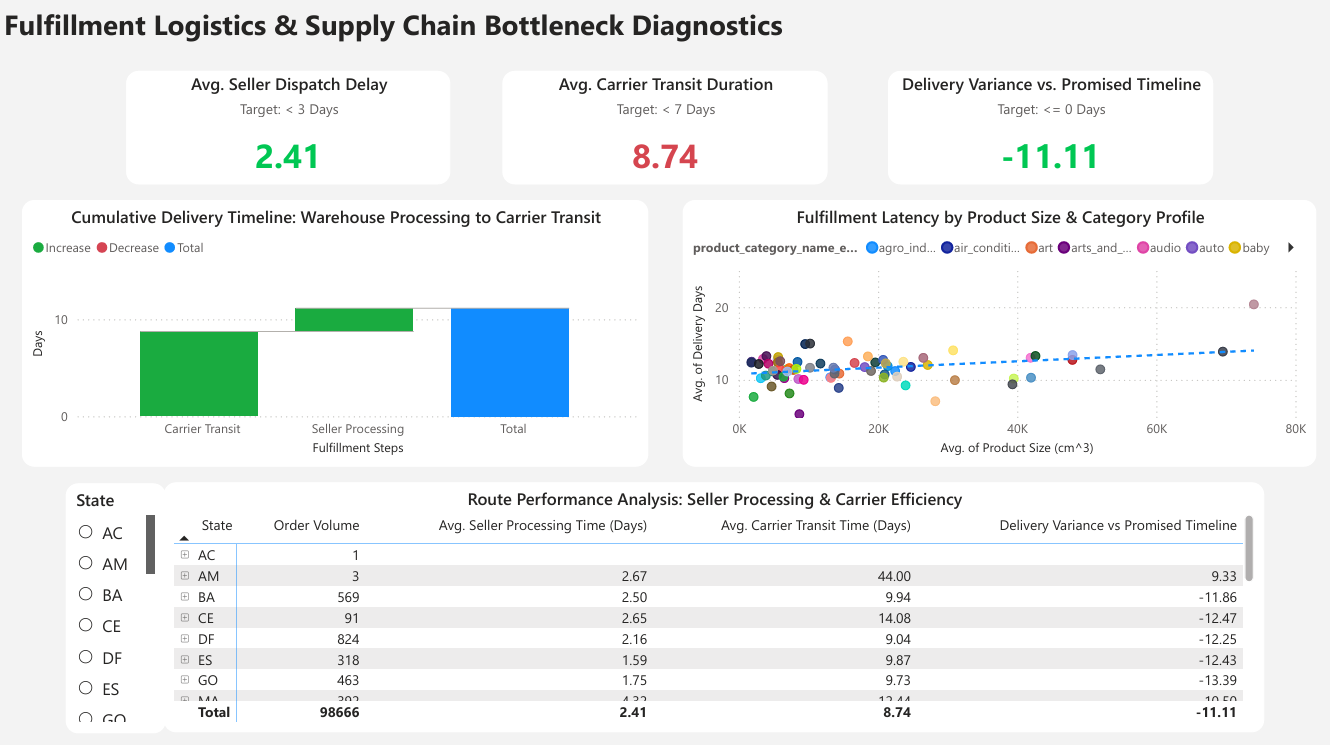

The dashboard page shown, as its layout file describes it:
{"tool":"powerbi","page":{"name":"Page 2 Logistics Bottleneck Analysis","canvas":[1280,720],"ordinal":1},"visuals":[{"type":"textbox","box":[0,0,1279.4,48.7],"z":0},{"type":"cardVisual","title":"Avg. Seller Dispatch Delay","fields":{"Data":["_Measures Bank.avg_seller_processing_time"]},"box":[121.7,68.3,311.7,108.3],"z":1000},{"type":"cardVisual","title":"Avg. Carrier Transit Duration","fields":{"Data":["_Measures Bank.avg_carrier_transit_time"]},"box":[483.3,68.3,311.7,108.3],"z":2000},{"type":"cardVisual","title":"Delivery Variance vs. Promised Timeline","fields":{"Data":["_Measures Bank.fulfillment_variance_vs_promise"]},"box":[853.3,68.3,311.7,108.3],"z":3000},{"type":"scatterChart","title":"Fulfillment Latency by Product Size & Category Profile","fields":{"X":["Avg(analytics vw_bottleneck_analysis.product_volume_cm3)"],"Y":["Avg(analytics vw_bottleneck_analysis.actual_delivery_days)"],"Series":["analytics vw_bottleneck_analysis.product_category_name_english"]},"box":[656,192,608,256],"z":4000},{"type":"pivotTable","title":"Route Performance Analysis: Seller Processing & Carrier Efficiency","fields":{"Rows":["analytics vw_bottleneck_analysis.seller_state","analytics vw_bottleneck_analysis.product_category_name_english"],"Values":["_Measures Bank.total_order_volume","_Measures Bank.avg_seller_processing_time","_Measures Bank.avg_carrier_transit_time","_Measures Bank.fulfillment_variance_vs_promise"]},"box":[157.9,462.8,1056,240],"z":5000},{"type":"waterfallChart","title":"Cumulative Delivery Timeline: Warehouse Processing to Carrier Transit","fields":{"Category":["_fulfillment_steps.StepName"],"Y":["_Measures Bank.waterfall_days"]},"box":[21.7,191.7,601.7,256.7],"z":6000},{"type":"listSlicer","title":"State","fields":{"Values":["analytics vw_bottleneck_analysis.seller_state"]},"box":[64,464,96,240],"z":7000}]}

Visuals, with their boxes in screenshot pixels (x1, y1, x2, y2), scaled from the page's 1280x720 canvas onto the 1330x745 screenshot:
textbox: region(0, 0, 1329, 50)
"Avg. Seller Dispatch Delay" cardVisual: region(126, 71, 450, 183)
"Avg. Carrier Transit Duration" cardVisual: region(502, 71, 826, 183)
"Delivery Variance vs. Promised Timeline" cardVisual: region(887, 71, 1211, 183)
"Fulfillment Latency by Product Size & Category Profile" scatterChart: region(682, 199, 1313, 464)
"Route Performance Analysis: Seller Processing & Carrier Efficiency" pivotTable: region(164, 479, 1261, 727)
"Cumulative Delivery Timeline: Warehouse Processing to Carrier Transit" waterfallChart: region(23, 198, 648, 464)
"State" listSlicer: region(66, 480, 166, 728)
